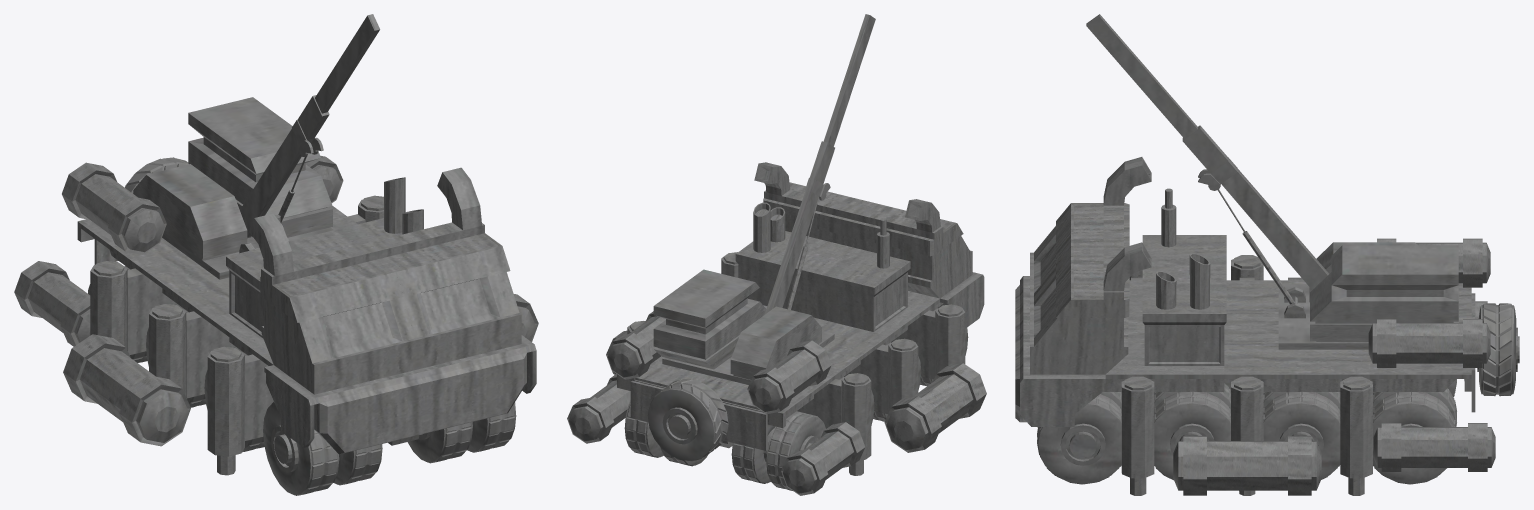
Rendered from Wooden_Vehicle.fbx.
3 views of the same model, side by side, from view 1: azimuth 30°, elevation 25°; view 2: azimuth 150°, elevation 25°; view 3: azimuth 270°, elevation 25° (orthographic). The views are drawn at different scales.
Visible parts, largest first — view 1: pCube2, pCube1, pCube3, pCylinder11, pCylinder32, pCylinder44, pCylinder36, pCylinder29, pCylinder34, pCylinder27, pCylinder28, pCylinder20 (+4 smaller); view 2: pCube2, pCube3, pCube1, pCylinder32, pCylinder37, pCylinder14, pCylinder44, pCylinder36, pCylinder34, pCylinder33, pCylinder35, pCylinder27 (+5 smaller); view 3: pCube1, pCube3, pCube2, pCylinder44, pCylinder31, pCylinder11, pCylinder33, pCylinder35, pCylinder12, pCylinder13, pCylinder14, pCylinder24 (+9 smaller).
Boxes of the visible parts, x1,y1,x2,y2 form: pCube2: (77, 213, 425, 454); pCube1: (315, 167, 536, 442); pCube3: (133, 97, 333, 279); pCylinder11: (263, 402, 516, 495); pCylinder32: (63, 334, 190, 446); pCylinder44: (240, 14, 380, 238); pCylinder36: (62, 162, 166, 254); pCylinder29: (207, 346, 244, 475); pCylinder34: (14, 261, 90, 346); pCylinder27: (90, 261, 127, 349); pCylinder28: (149, 304, 186, 396); pCylinder20: (384, 177, 405, 233); pCube2: (709, 199, 984, 450); pCube3: (653, 269, 834, 384); pCube1: (617, 162, 871, 422); pCylinder32: (884, 363, 986, 452); pCylinder37: (647, 379, 728, 461); pCylinder14: (624, 400, 825, 490); pCylinder44: (764, 14, 875, 314); pCylinder36: (747, 340, 831, 413); pCylinder34: (781, 422, 865, 495); pCylinder33: (567, 374, 630, 443); pCylinder35: (606, 311, 665, 379); pCylinder27: (841, 373, 871, 475); pCube1: (1015, 242, 1475, 426); pCube3: (1278, 242, 1458, 349); pCube2: (1015, 157, 1475, 334); pCylinder44: (1086, 14, 1328, 289); pCylinder31: (1173, 436, 1321, 495); pCylinder11: (1037, 392, 1121, 484); pCylinder33: (1373, 423, 1495, 471); pCylinder35: (1368, 319, 1490, 367); pCylinder12: (1154, 383, 1230, 480); pCylinder13: (1263, 392, 1340, 479); pCylinder14: (1373, 379, 1456, 484); pCylinder24: (1121, 376, 1154, 495).
Bounding box in the file's own units: 391 × 412 × 450.
1 material, 1 textured.
